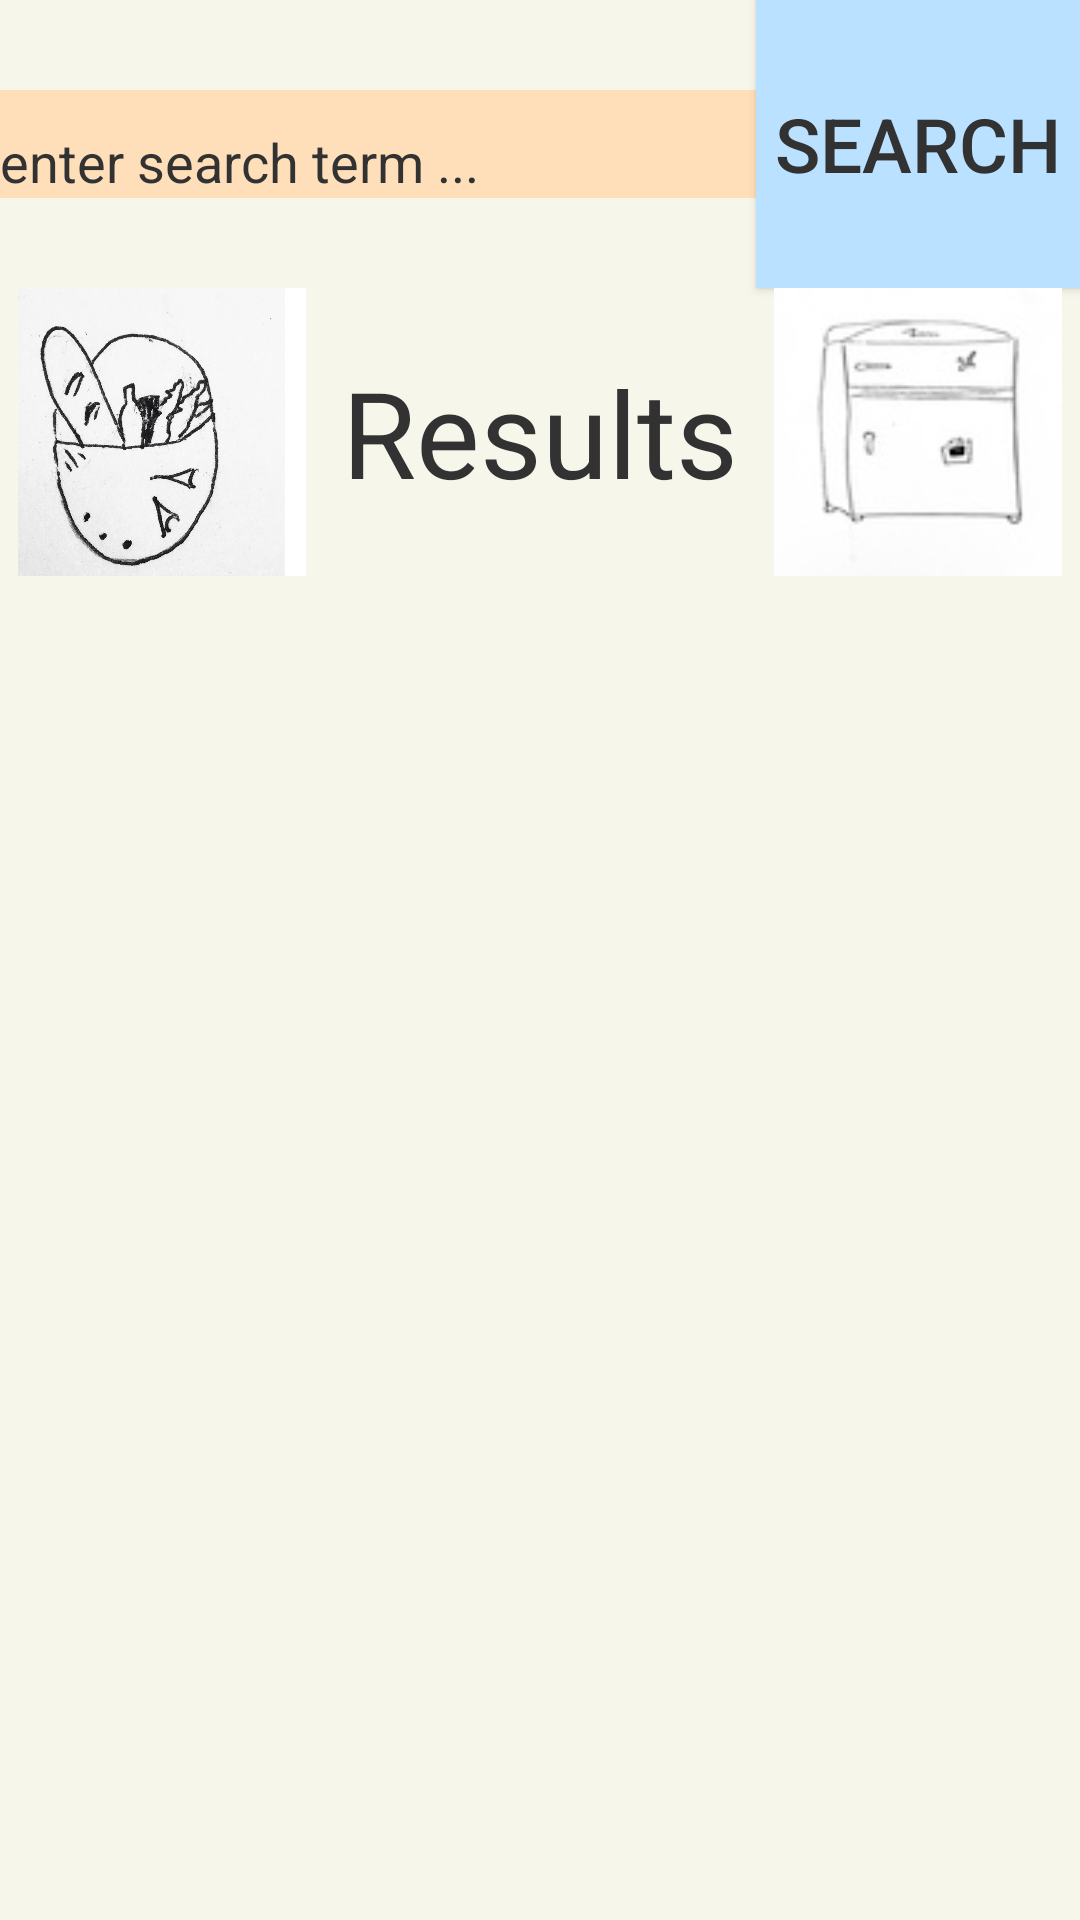

Icon click points for this 1080w x 1920h phone screenshot, format point (x, y):
basket: point (162, 432)
fridge: point (918, 432)
